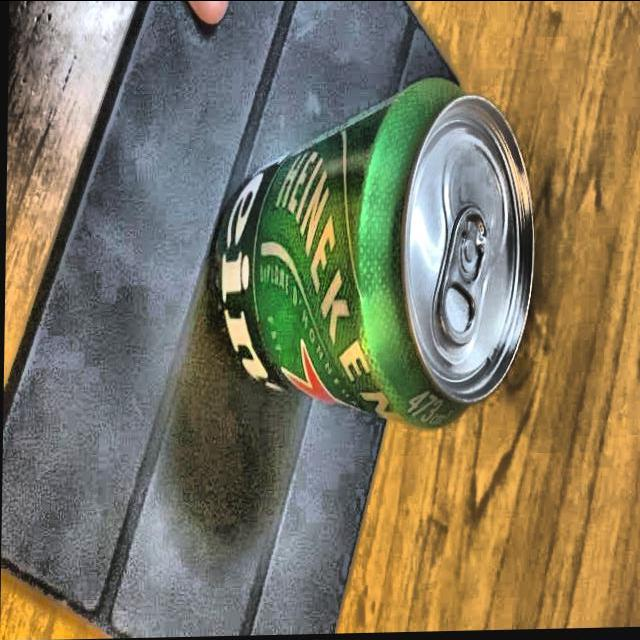Aluminum Can: (192, 70, 542, 443)
